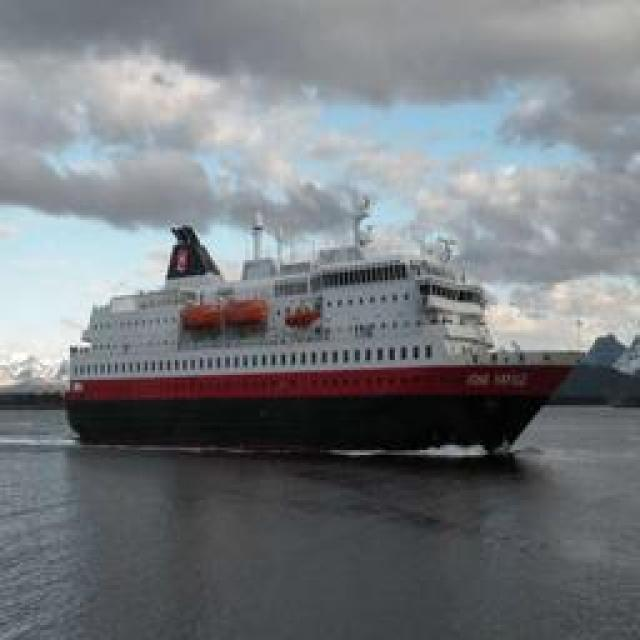CIV_Ship: (64, 216, 592, 454)
